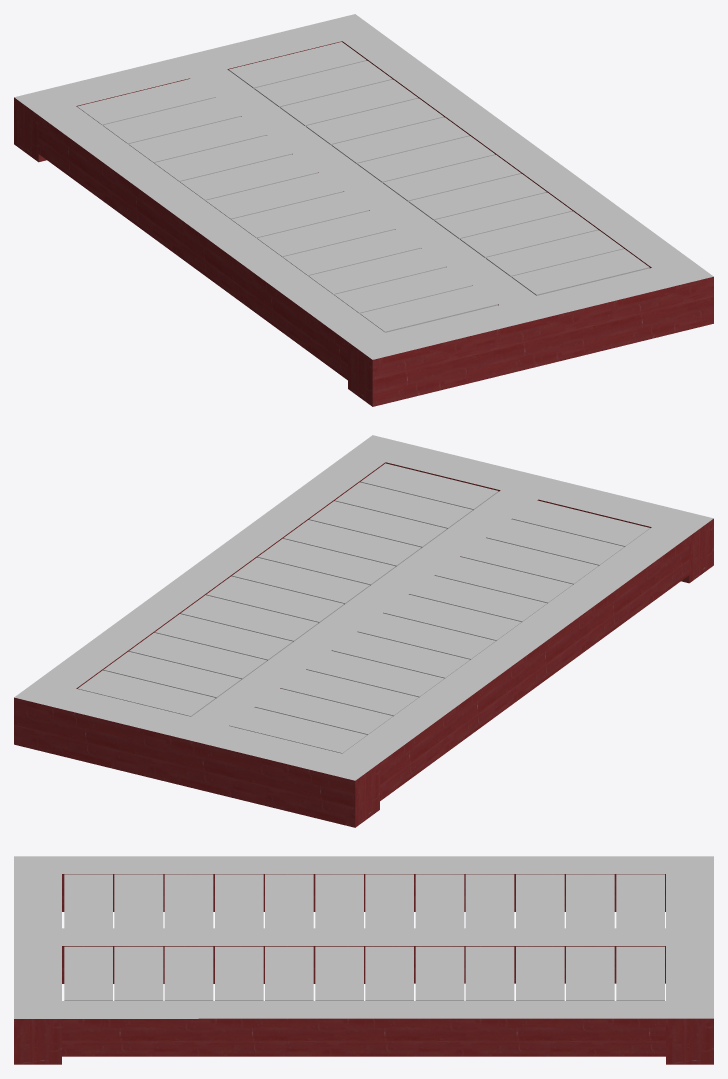
The model's file is SM_F_Wood_1.fbx.
The picture shows the model from 3 angles, top to bottom: view 1: azimuth 30°, elevation 25°; view 2: azimuth 150°, elevation 25°; view 3: azimuth 270°, elevation 25°; orthographic projection. The views are drawn at different scales.
Visible parts, largest first — view 1: SM_F_Wood_1; view 2: SM_F_Wood_1; view 3: SM_F_Wood_1.
Boxes of the visible parts, bbox=[...] form: SM_F_Wood_1: bbox=[14, 14, 713, 406]; SM_F_Wood_1: bbox=[14, 435, 713, 827]; SM_F_Wood_1: bbox=[14, 856, 713, 1064].
Size of the model in its own units: 169 by 307 by 22.25.
